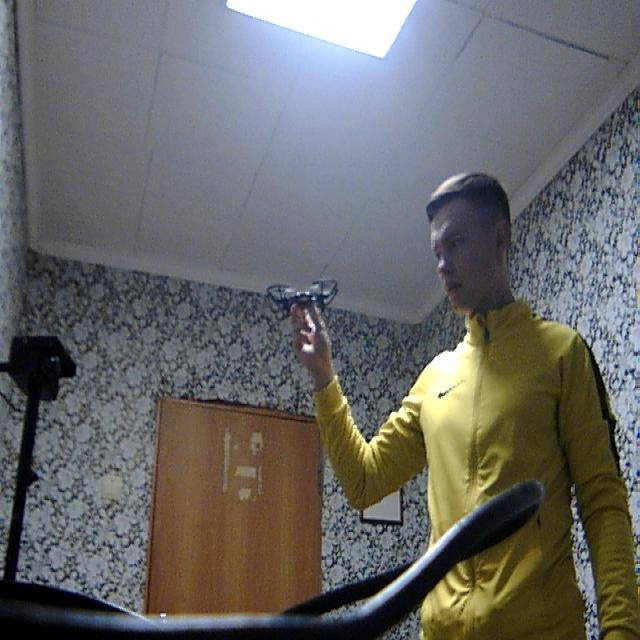drone: (264, 260, 344, 324)
